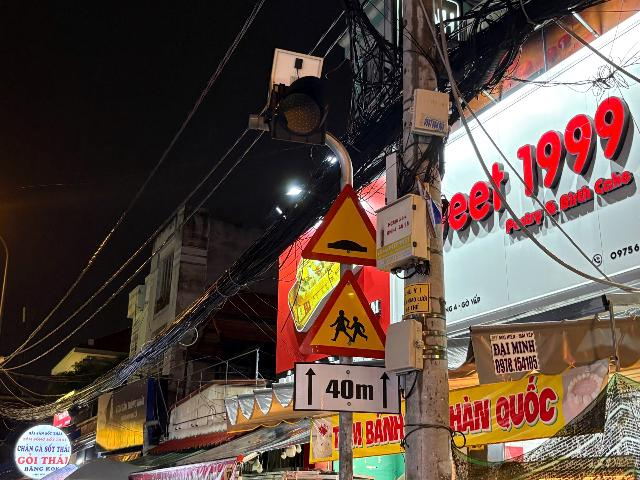duong-co-go-giam-toc: (301, 182, 378, 269)
tre-em-qua-duong: (299, 271, 387, 358)
